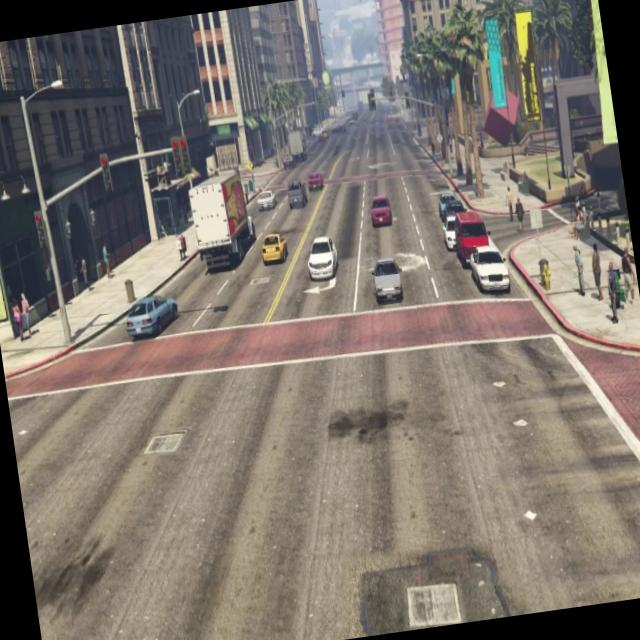Red-Signal: (167, 126, 196, 188), (95, 146, 119, 200), (30, 204, 50, 256)
